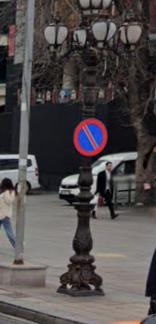nopark: (73, 116, 107, 157)
